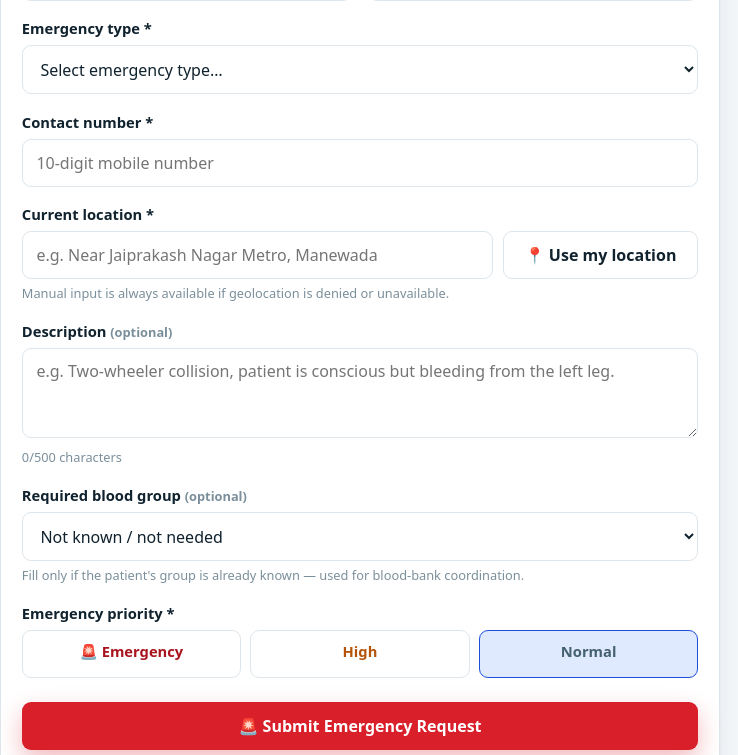
Scenario: EmergencyFormPage › shows validation errors when submitted empty
The image size is (738, 755).
(page scrolled)
Click the button "🚨 Submit Emergency Request" at {"x": 360, "y": 726}, box [22,702,698,750]
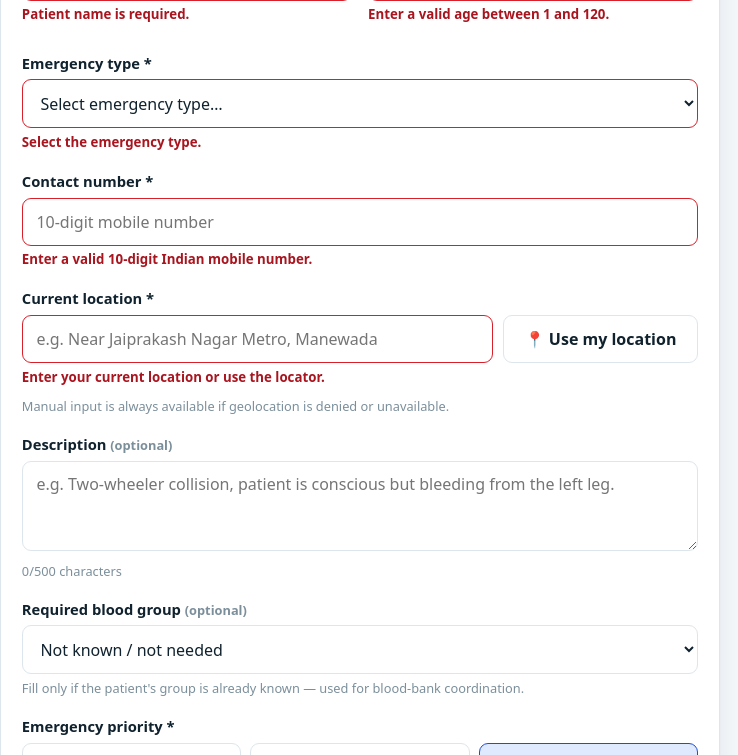
Expected: the text "Patient name is required." is shown, [22,5,189,23]
Expected: the text "Enter a valid age between 1 and 120." is shown, [368,5,609,23]
Expected: the text "Select the emergency type." is shown, [22,133,201,151]
